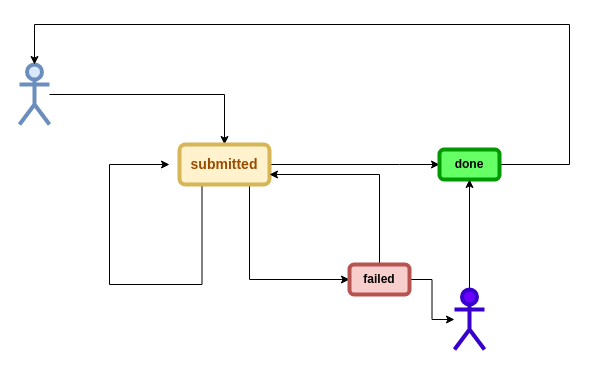
Image size: 595x388. Some labels were removed from this diagram. The centre of each missing label's shape, as x and y in pixels:
ODA support: (469,319)
User: (34,94)
